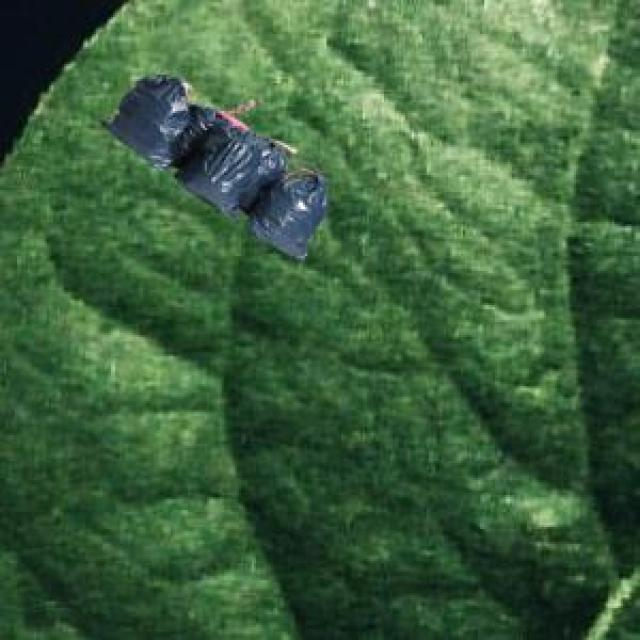waste: (109, 80, 328, 258)
